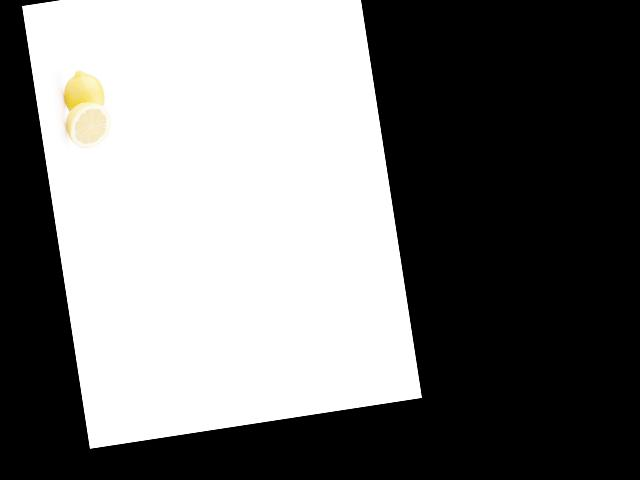lemon: (55, 66, 109, 115)
